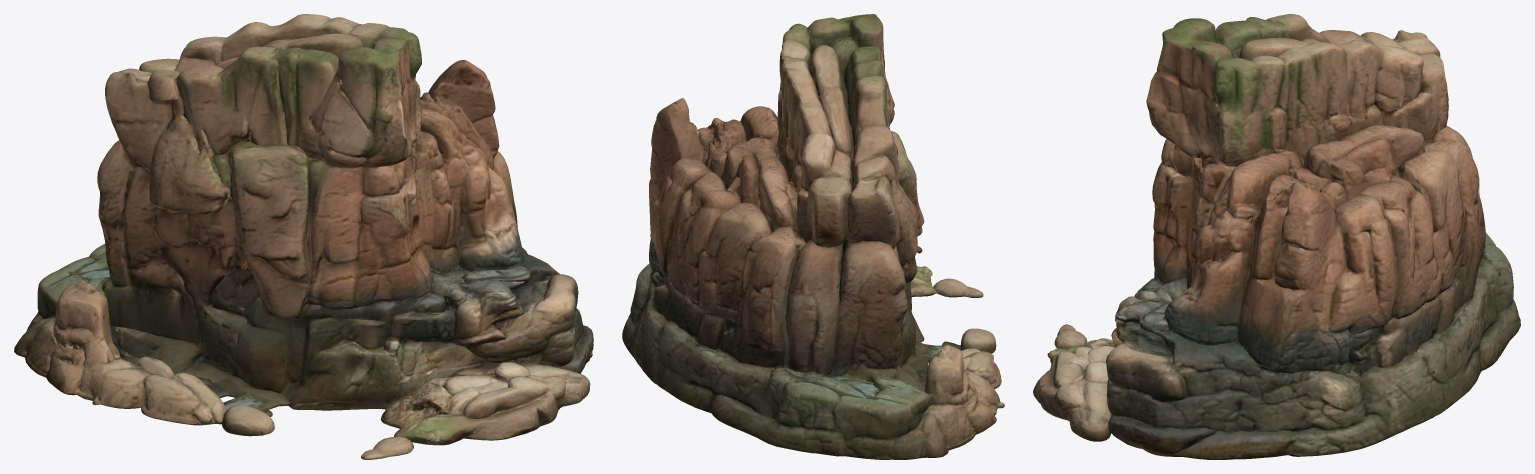
The model's file is macro-slate-v7.glb.
The picture shows the model from 3 angles, left to right: view 1: azimuth 30°, elevation 25°; view 2: azimuth 150°, elevation 25°; view 3: azimuth 270°, elevation 25°; orthographic projection. The views are drawn at different scales.
Parts seen in each view (by area): view 1: geometry_0; view 2: geometry_0; view 3: geometry_0.
Boxes of the visible parts, x1=… form: geometry_0: x1=14, y1=14, x2=593, y2=459; geometry_0: x1=622, y1=14, x2=1004, y2=459; geometry_0: x1=1033, y1=14, x2=1520, y2=459.
Size of the model in its own units: 13.25 by 10 by 13.1.
Materials: 1 (1 with a texture image).
